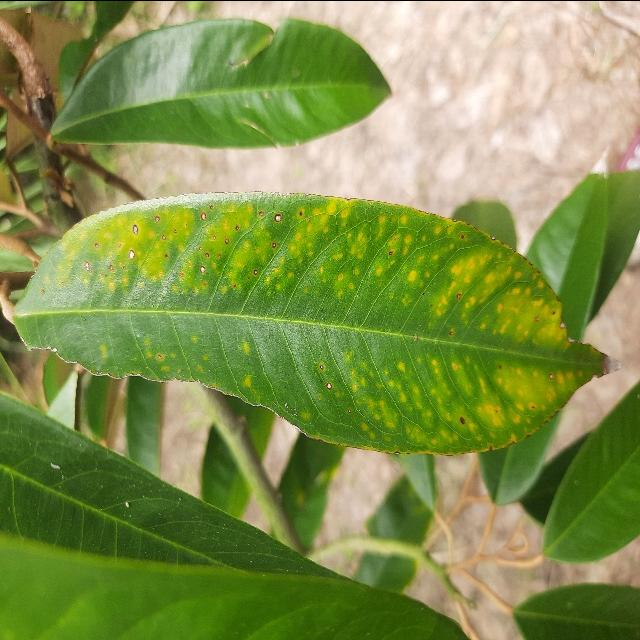Leaf Spot: (0, 179, 630, 467)
